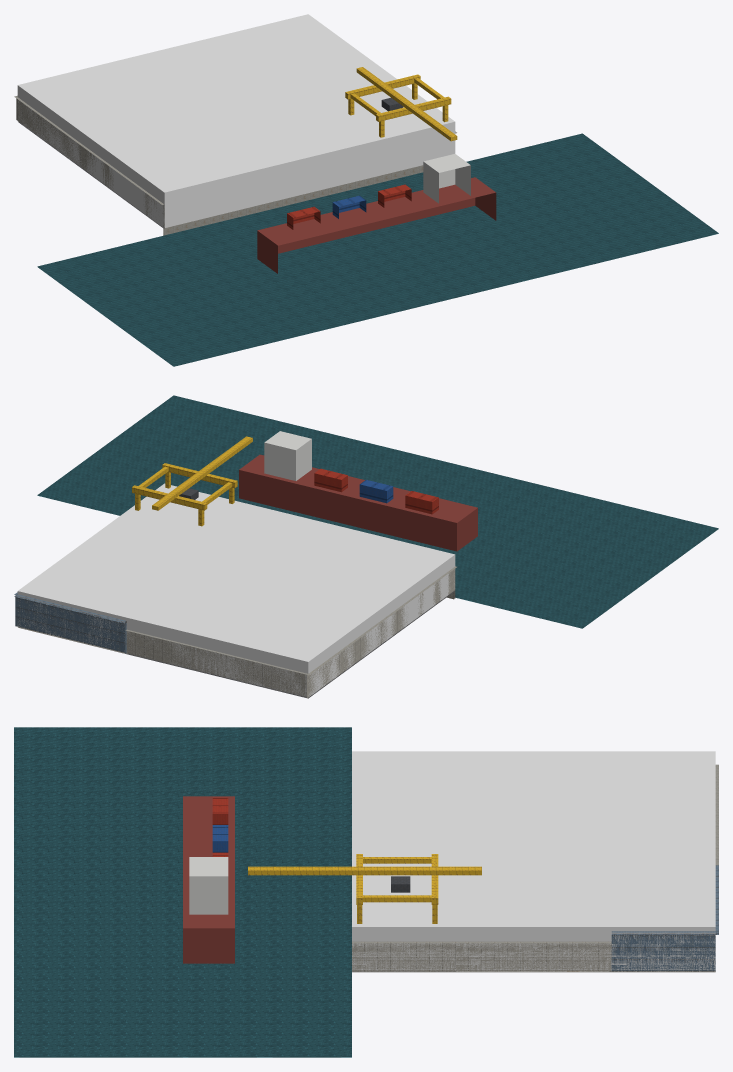
Rendered from de_harbor.glb.
3 renders of one model, top to bottom at view 1: azimuth 30°, elevation 25°; view 2: azimuth 150°, elevation 25°; view 3: azimuth 270°, elevation 25°, orthographic. The views are drawn at different scales.
Parts seen in each view (by area): view 1: Outside_Water, VIS_TSpawn, VIS_LongA, VIS_SiteA, Outside_ShipHull, VIS_Connector, VIS_SiteB, VIS_Mid, VIS_Courtyard, Outside_CraneTop, Outside_ShipBridge, VIS_CTSpawn (+3 smaller); view 2: Outside_Water, VIS_TSpawn, Outside_ShipHull, VIS_LongA, VIS_SiteB, VIS_Connector, VIS_Alley, Outside_ShipBridge, VIS_Mid, VIS_SiteA, VIS_Courtyard, VIS_CTSpawn (+5 smaller); view 3: Outside_Water, VIS_TSpawn, VIS_CTSpawn, VIS_SiteB, VIS_LongA, VIS_SiteA, VIS_Connector, VIS_Mid, Outside_ShipHull, VIS_Courtyard, CTSpawn_Wall_North, Outside_CraneTop (+5 smaller).
Part boxes in pixels (x1=…): Outside_Water: x1=37, y1=133, x2=718, y2=366; VIS_TSpawn: x1=17, y1=69, x2=227, y2=228; VIS_LongA: x1=171, y1=106, x2=346, y2=212; VIS_SiteA: x1=304, y1=91, x2=455, y2=183; Outside_ShipHull: x1=257, y1=177, x2=496, y2=273; VIS_Connector: x1=97, y1=52, x2=256, y2=111; VIS_SiteB: x1=199, y1=14, x2=349, y2=71; VIS_Mid: x1=139, y1=83, x2=287, y2=134; VIS_Courtyard: x1=241, y1=58, x2=358, y2=117; Outside_CraneTop: x1=345, y1=67, x2=457, y2=141; Outside_ShipBridge: x1=287, y1=154, x2=470, y2=229; VIS_CTSpawn: x1=296, y1=45, x2=411, y2=103; Outside_Water: x1=37, y1=395, x2=718, y2=628; VIS_TSpawn: x1=244, y1=539, x2=455, y2=696; Outside_ShipHull: x1=239, y1=454, x2=477, y2=551; VIS_LongA: x1=216, y1=510, x2=390, y2=580; VIS_SiteB: x1=17, y1=560, x2=167, y2=651; VIS_Connector: x1=143, y1=575, x2=301, y2=634; VIS_Alley: x1=126, y1=606, x2=259, y2=681; Outside_ShipBridge: x1=264, y1=431, x2=438, y2=514; VIS_Mid: x1=184, y1=552, x2=333, y2=603; VIS_SiteA: x1=123, y1=483, x2=272, y2=540; VIS_Courtyard: x1=114, y1=527, x2=231, y2=586; VIS_CTSpawn: x1=60, y1=514, x2=176, y2=573; Outside_Water: x1=14, y1=727, x2=351, y2=1057; VIS_TSpawn: x1=352, y1=751, x2=715, y2=789; VIS_CTSpawn: x1=456, y1=894, x2=611, y2=971; VIS_SiteB: x1=611, y1=861, x2=715, y2=971; VIS_LongA: x1=352, y1=789, x2=494, y2=861; VIS_SiteA: x1=352, y1=861, x2=455, y2=971; VIS_Connector: x1=572, y1=789, x2=676, y2=861; VIS_Mid: x1=494, y1=789, x2=572, y2=861; Outside_ShipHull: x1=183, y1=796, x2=234, y2=963; VIS_Courtyard: x1=456, y1=861, x2=611, y2=893; CTSpawn_Wall_North: x1=456, y1=941, x2=611, y2=971; Outside_CraneTop: x1=248, y1=854, x2=481, y2=923.
Size of what is drawn, in the model's own units: 120 by 14.8 by 108.
Materials: 17 (13 with a texture image).
